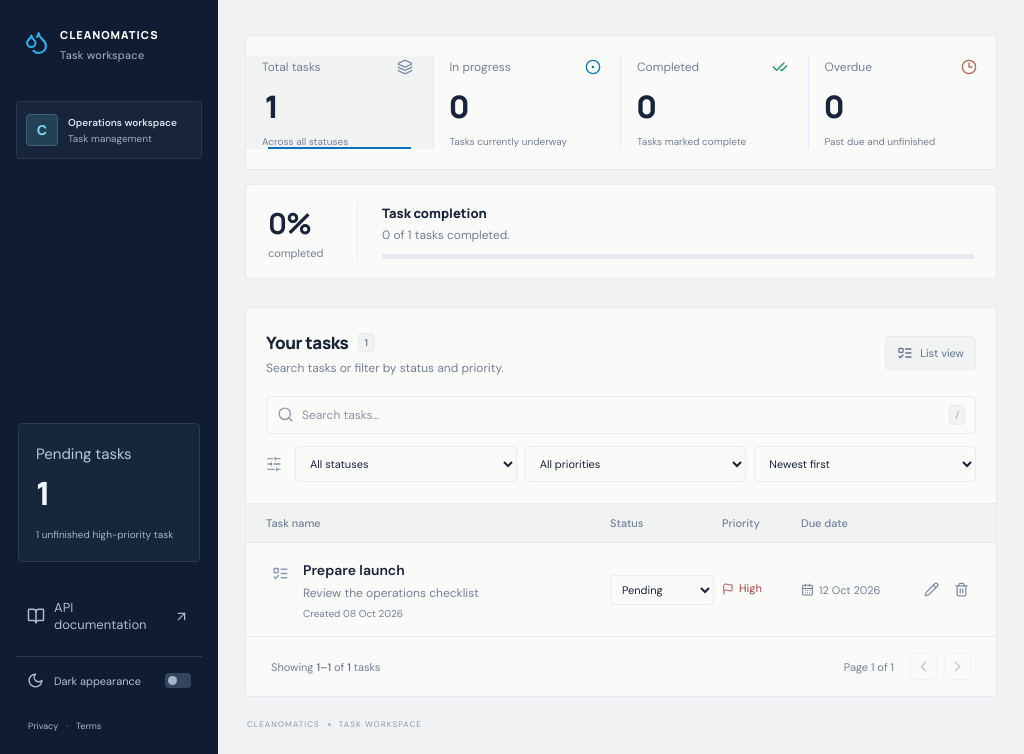
Test: workspace journeys › returns focus to the task after closing an editor opened from details
This screenshot has width=1024, height=754.
(page scrolled)
Click the button with aria-label "View task Prepare launch": (364,570) [303,559,426,581]
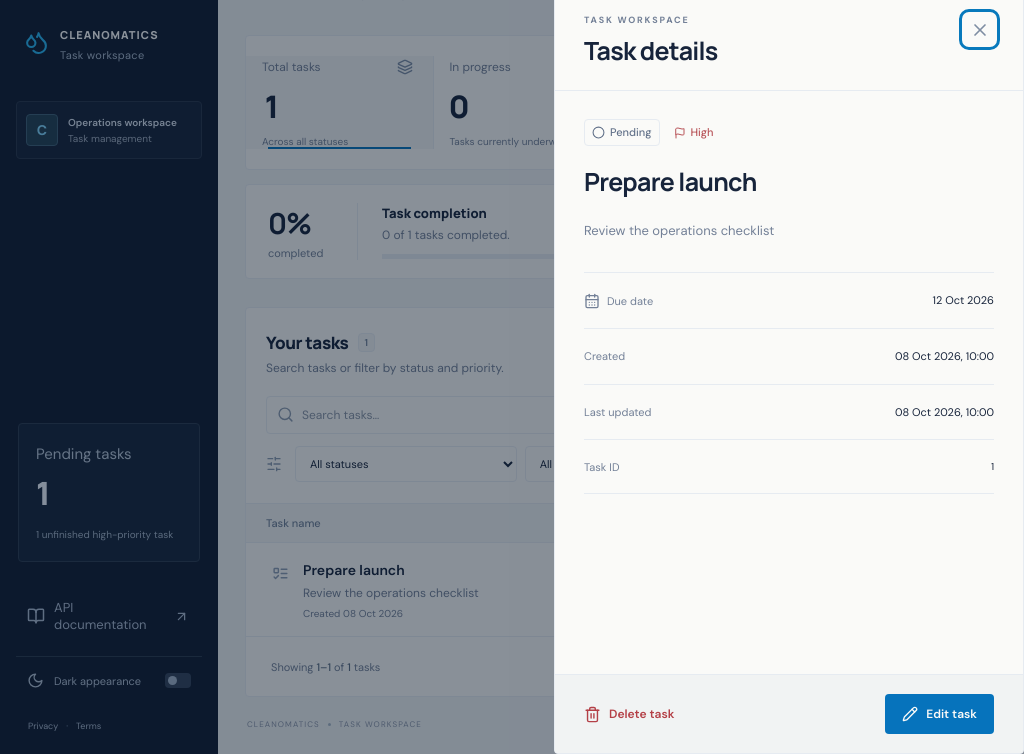
Now the text "Created" is shown, box [584,349,625,363]
Click the button "Edit task": (940,714) [885,694,994,734]
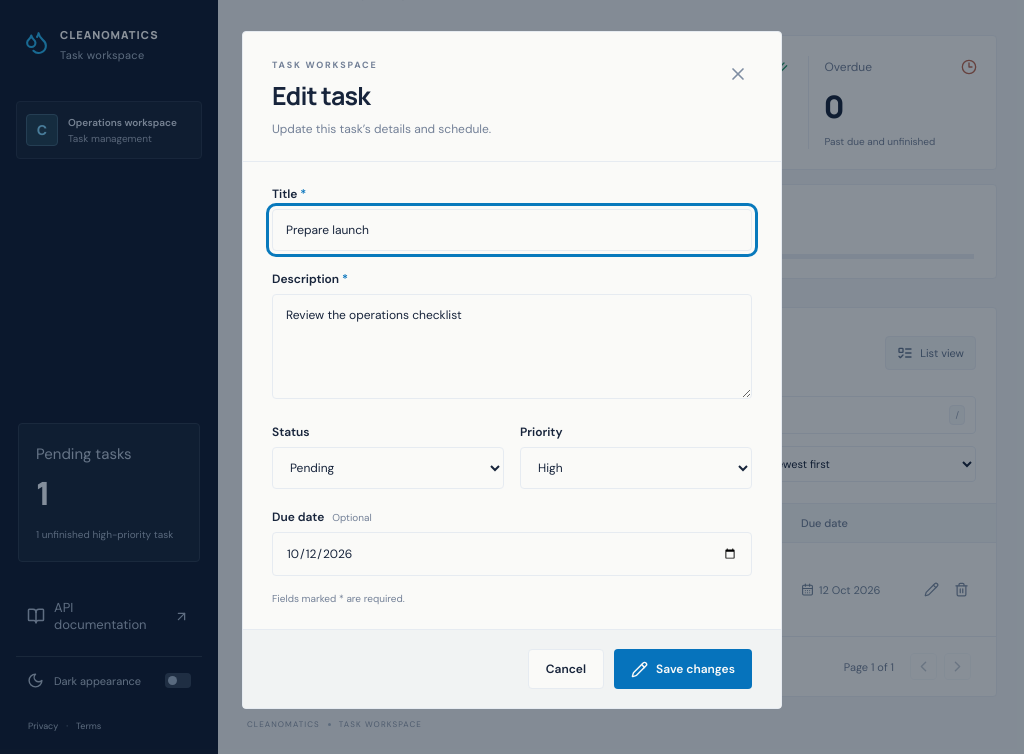
Press Escape
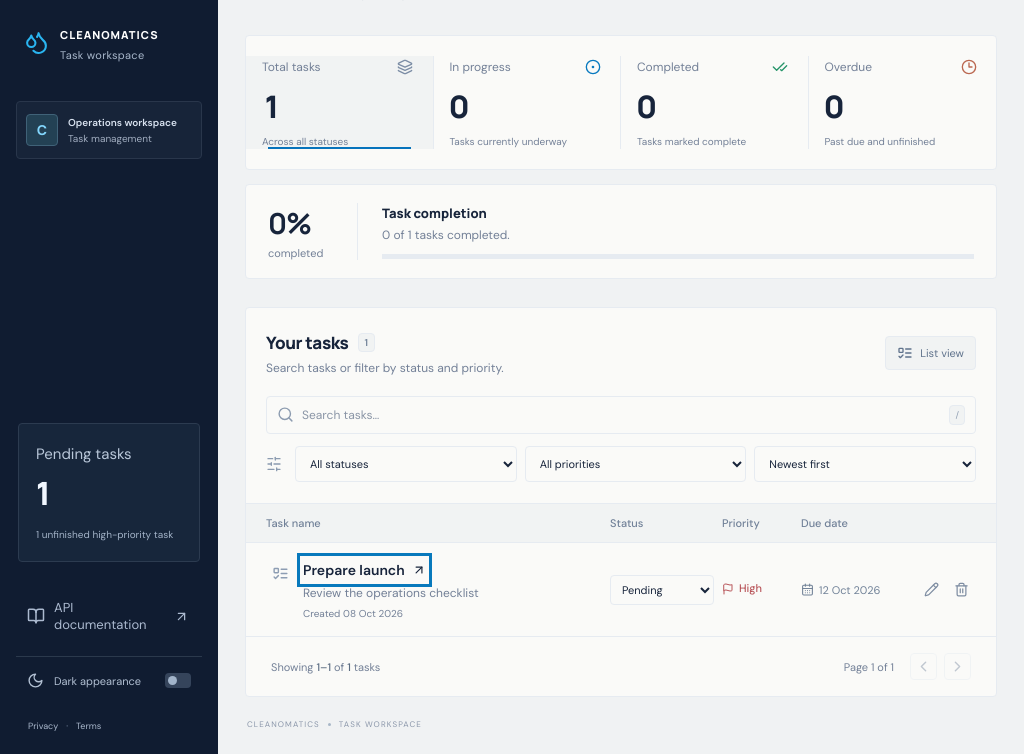
Now the dialog is gone
